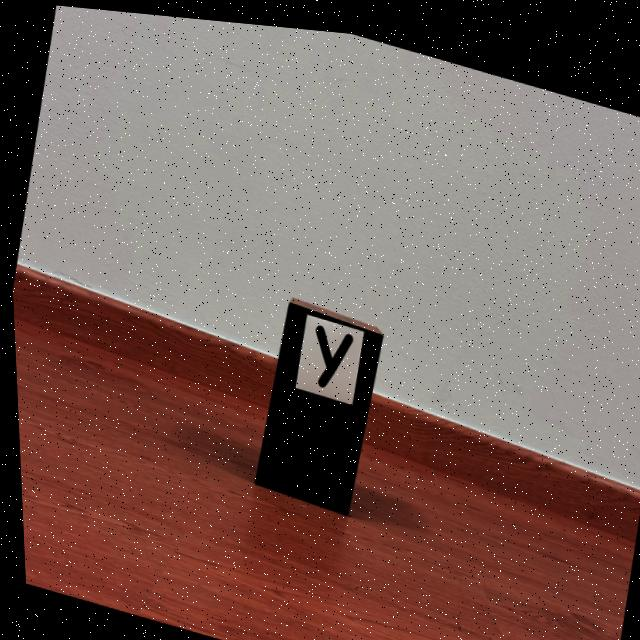Y: (313, 319, 350, 381)
